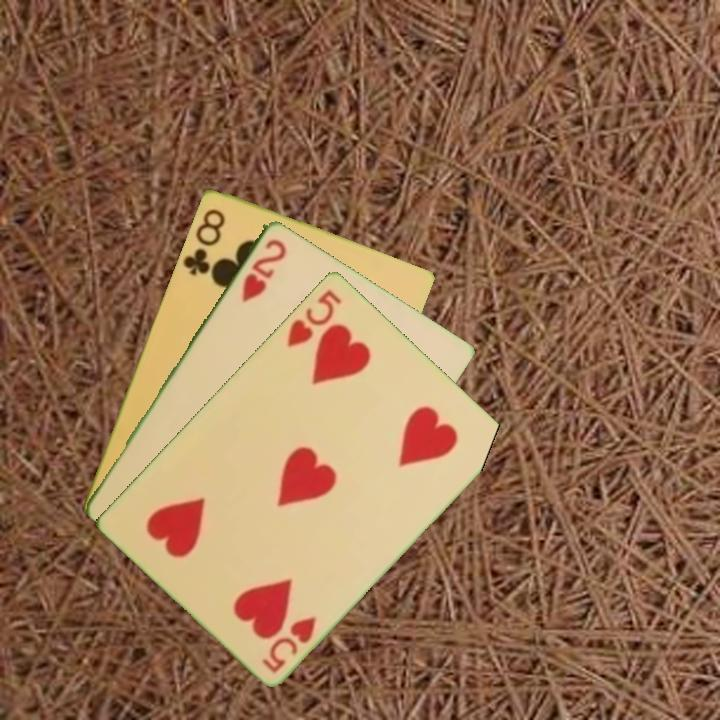2h: (238, 235, 290, 305)
5h: (283, 285, 345, 350), (258, 612, 320, 676)
8c: (179, 204, 228, 278)
